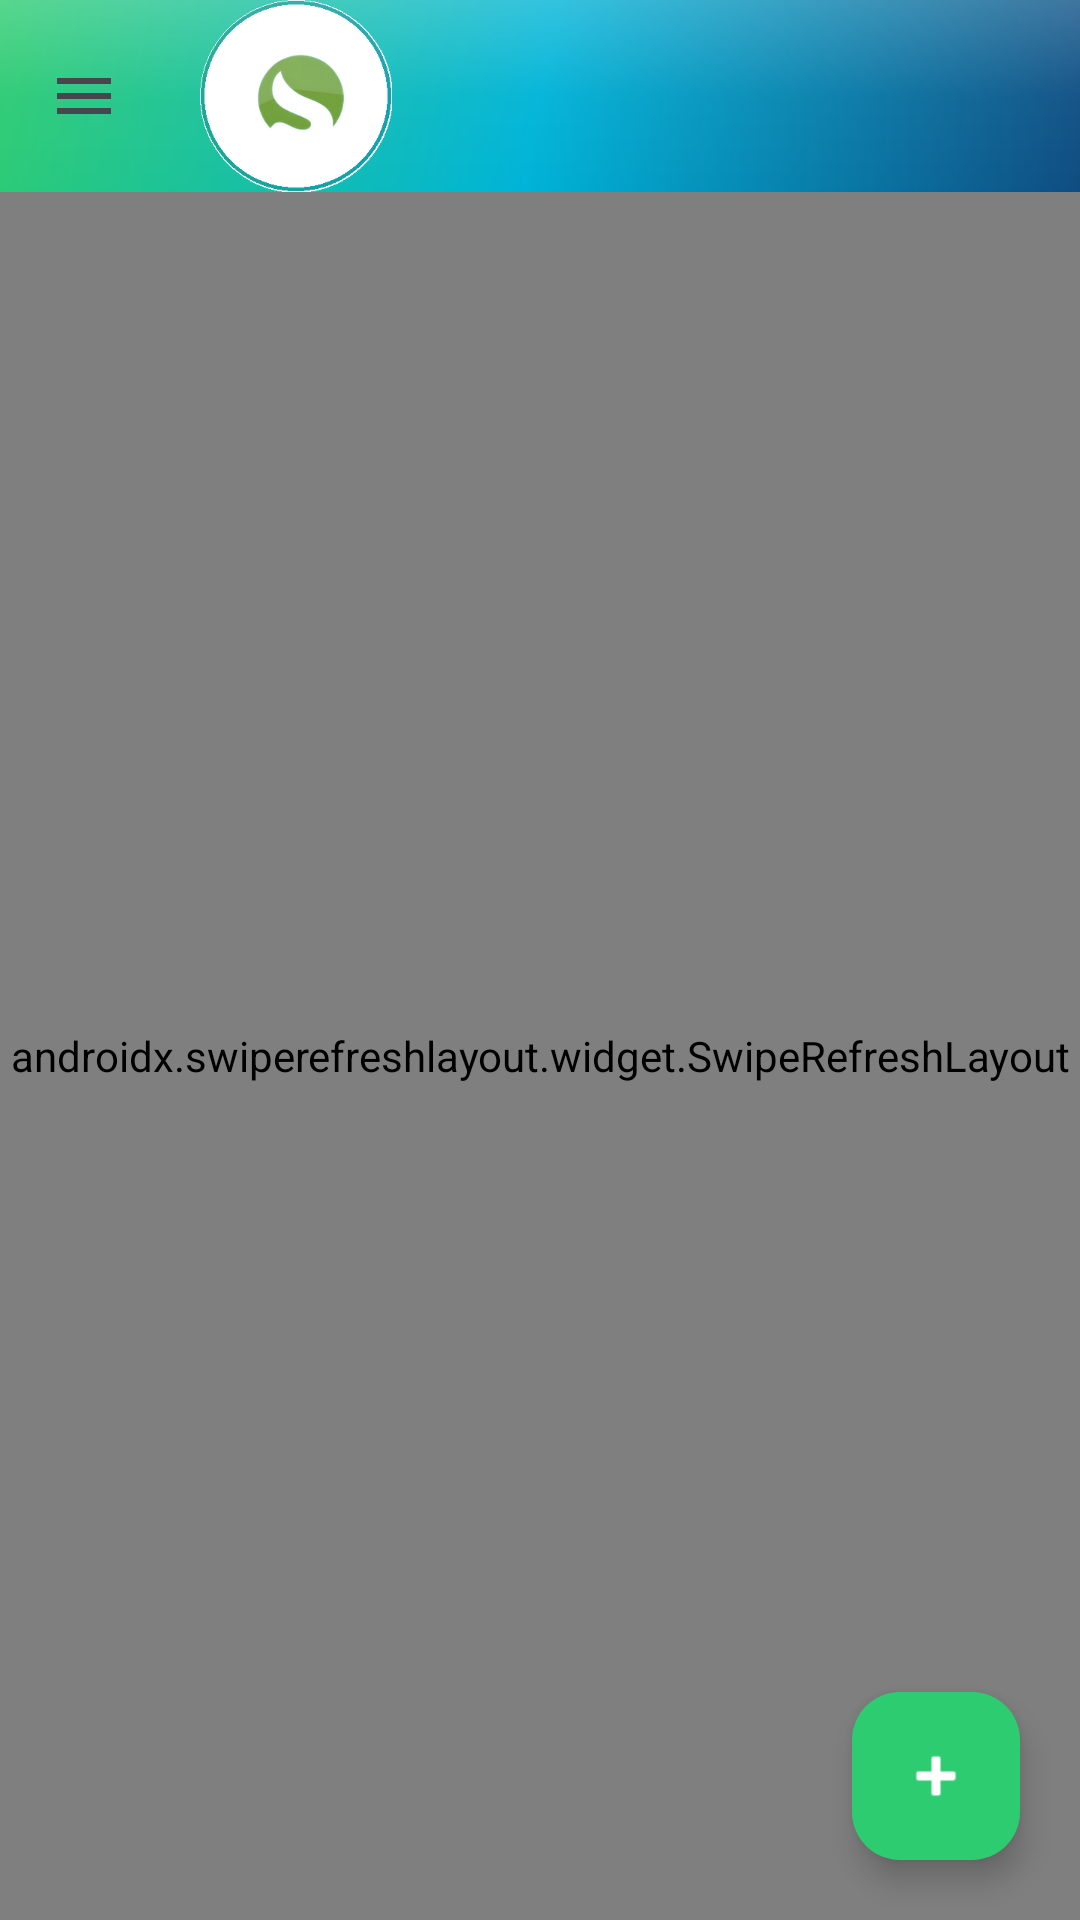

Point at icon controls on the screen. Image size 1080px×1920px, points as (x,y).
Ekle: (936,1776)
